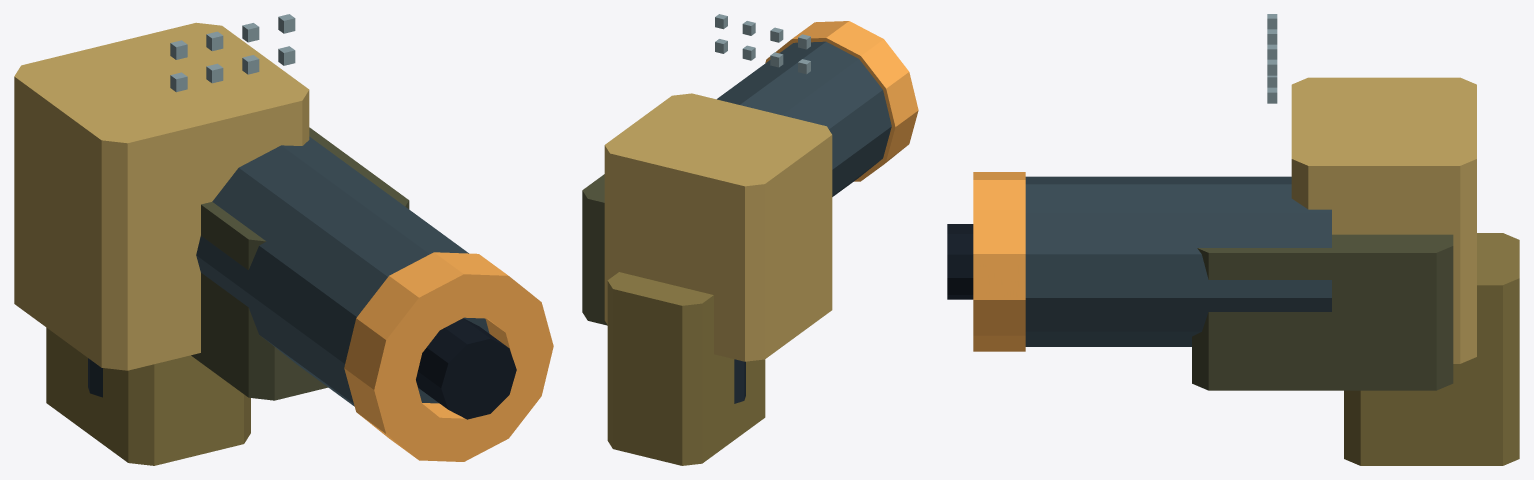
File: enemy_gunner_forearm_r.obj
3 renders of one model, left to right at view 1: azimuth 30°, elevation 25°; view 2: azimuth 150°, elevation 25°; view 3: azimuth 270°, elevation 25°, orthographic. The views are drawn at different scales.
Size of the model in its own units: 0.55 by 0.923 by 1.21.
